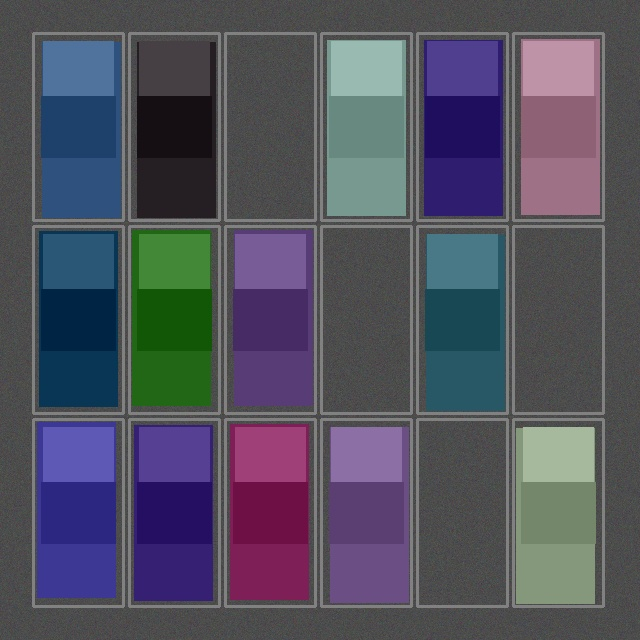space-empty: (227, 35, 313, 218), (323, 228, 409, 411), (515, 228, 601, 411), (419, 421, 505, 604)
space-occupied: (35, 35, 121, 218), (131, 35, 217, 218), (323, 35, 409, 218), (419, 35, 505, 218), (515, 35, 601, 218), (35, 228, 121, 411), (131, 228, 217, 411), (227, 228, 313, 411), (419, 228, 505, 411), (35, 421, 121, 604), (131, 421, 217, 604), (227, 421, 313, 604), (323, 421, 409, 604), (515, 421, 601, 604)
